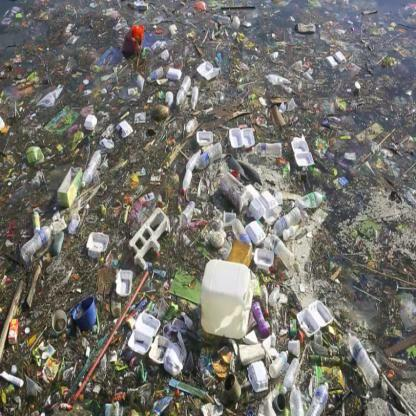Plastic: (199, 255, 251, 338), (338, 329, 380, 387), (129, 313, 165, 359), (21, 220, 57, 264), (305, 381, 332, 415), (289, 135, 314, 169), (244, 358, 268, 392)
